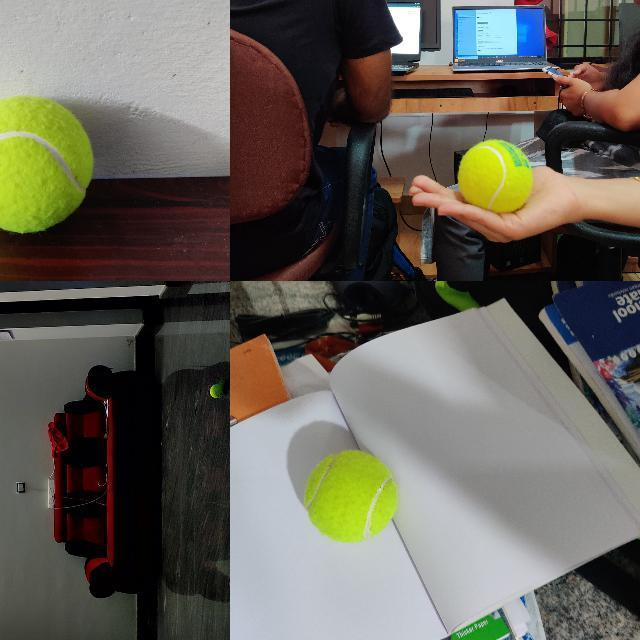tennis-ball: (0, 95, 94, 234), (303, 449, 397, 543), (459, 140, 532, 211), (209, 384, 224, 399)
